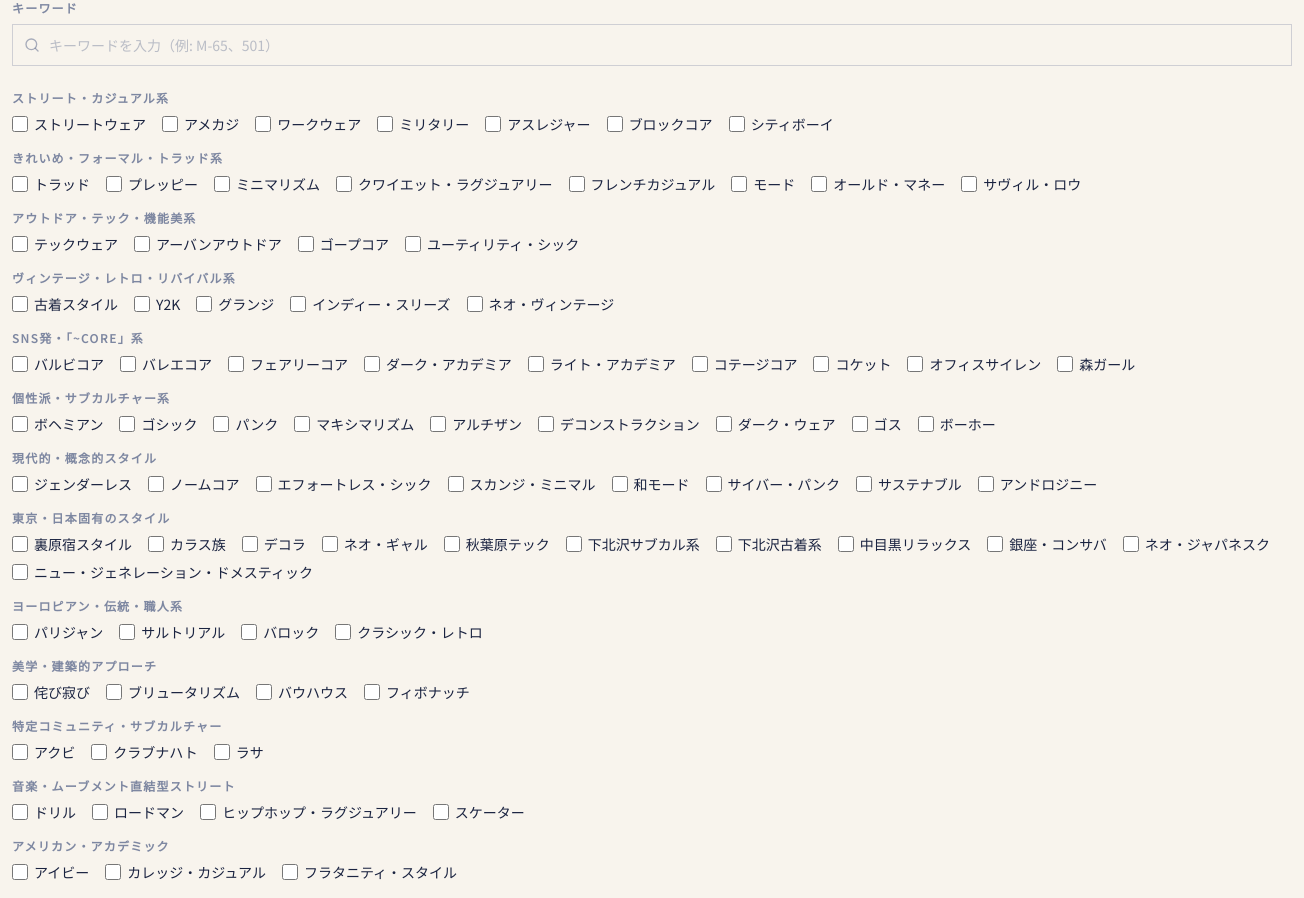
Test: ConditionsForm — キーワード入力 › キーワード入力のみで（スタイル・カラー未選択）「検索」ボタンが有効化される
Type "501" into the field labelled "キーワードを入力（例: M-65、501）". click: (652, 45)
box: [12,24,1292,66]
(page scrolled)
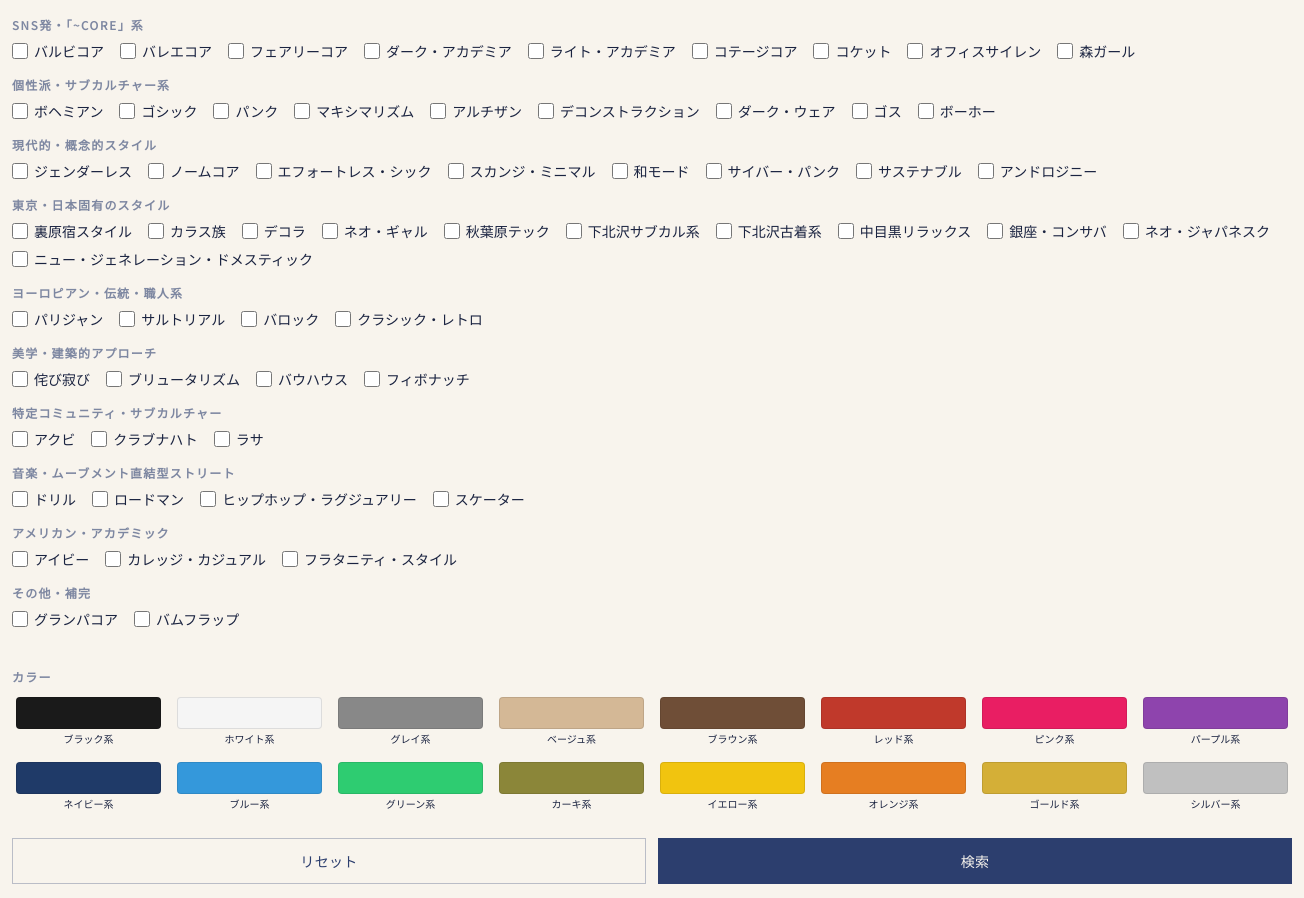
Expected: the button "検索" is enabled, [658,838,1292,884]
